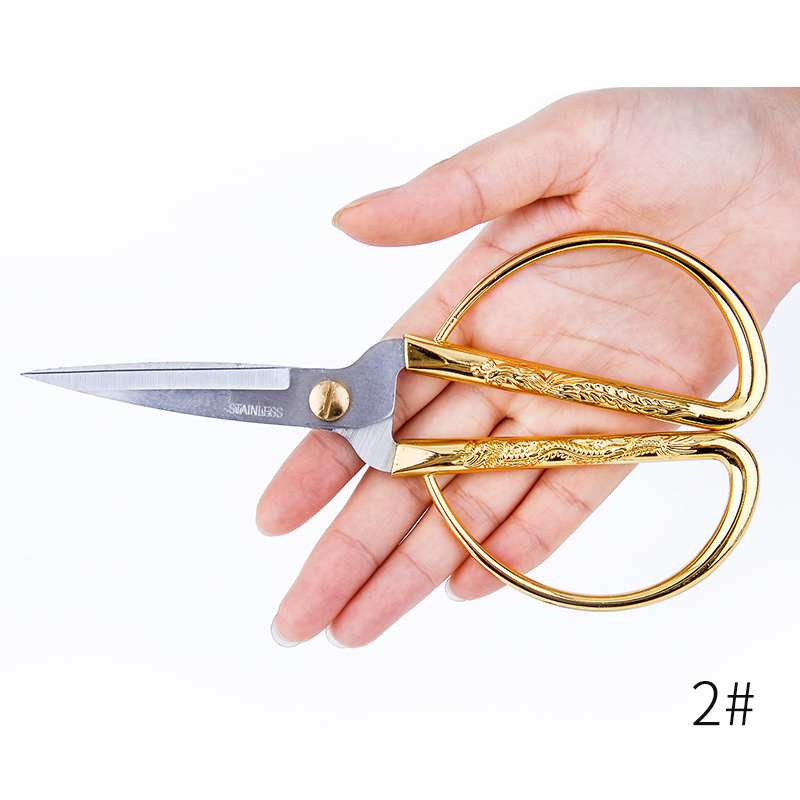scissors: (16, 227, 778, 614)
